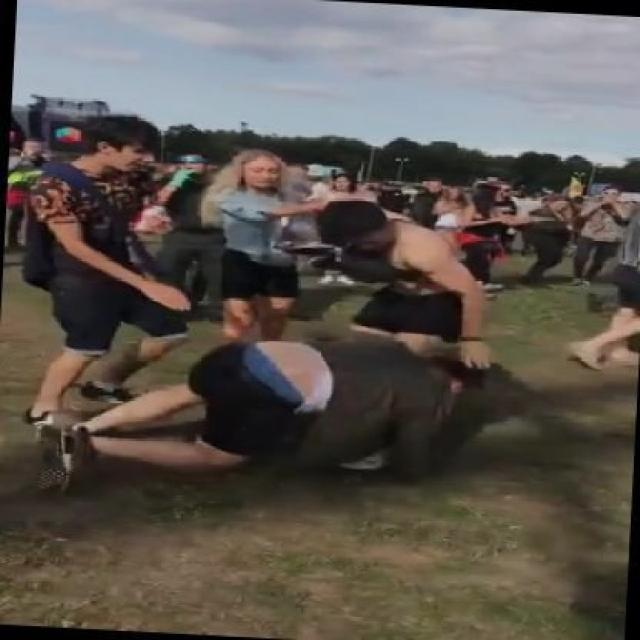fight: (32, 190, 524, 517)
non-fight: (22, 115, 189, 432), (203, 143, 330, 347)
